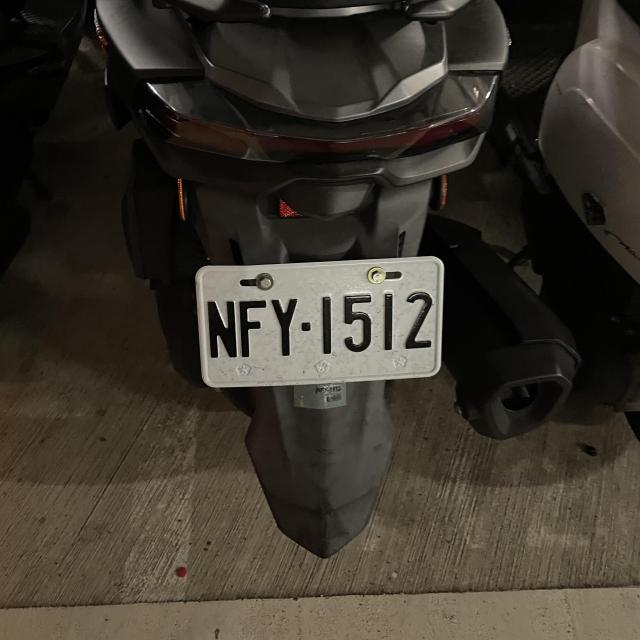W: (194, 258, 446, 388)
